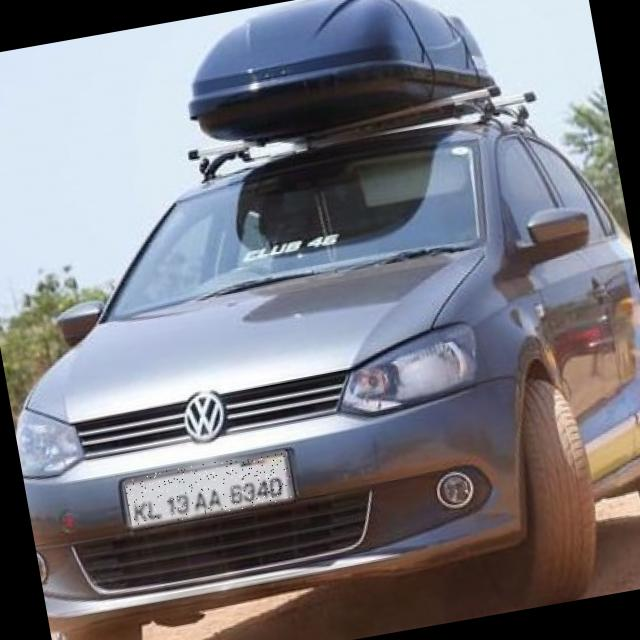Plate: (125, 450, 295, 529)
